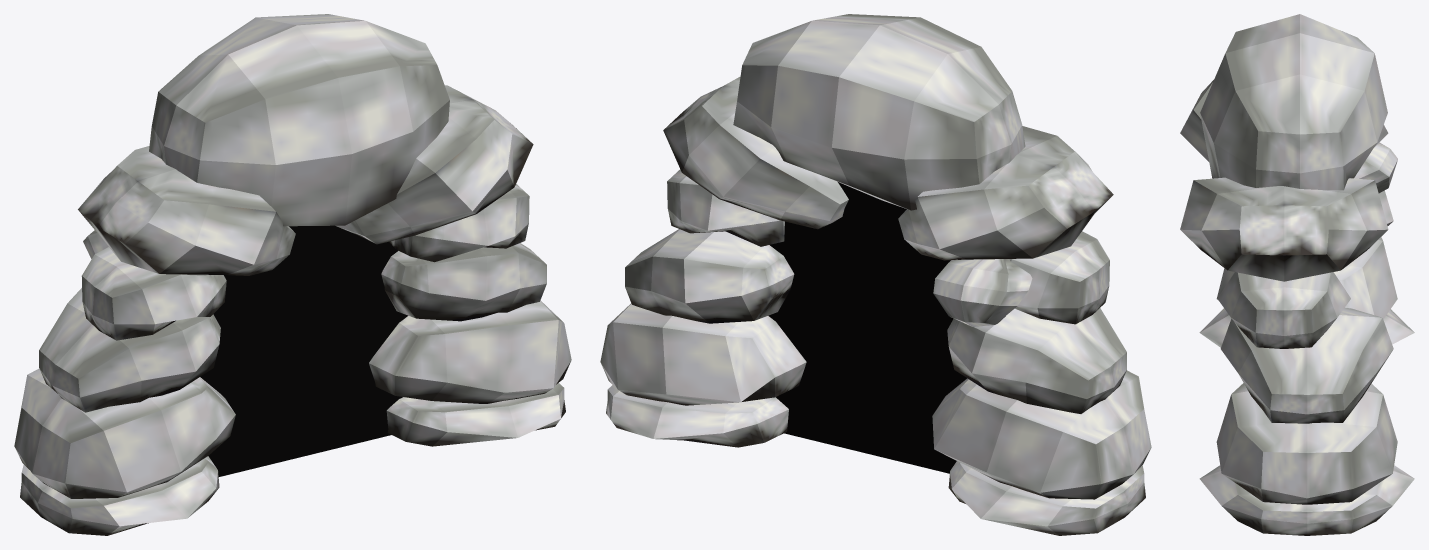
Rendered from Poly_World_Map_Entrance_01.obj.
3 renders of one model, left to right at view 1: azimuth 30°, elevation 25°; view 2: azimuth 150°, elevation 25°; view 3: azimuth 270°, elevation 25°, orthographic. The views are drawn at different scales.
Visible parts, largest first — view 1: Grid.005, Grid.008, Grid.004, Grid.001, Grid.003, Grid.007, Grid.002; view 2: Grid.005, Grid.008, Grid.004, Grid.001, Grid.003, Grid.007, Grid.002, Grid.006; view 3: Grid.005, Grid.004, Grid.001, Grid.003, Grid.007, Grid.002, Grid.006.
Part boxes in pixels (x1=…): Grid.005: x1=149, y1=14, x2=449, y2=226; Grid.008: x1=200, y1=225, x2=407, y2=476; Grid.004: x1=14, y1=300, x2=571, y2=498; Grid.001: x1=78, y1=85, x2=533, y2=275; Grid.003: x1=39, y1=243, x2=546, y2=412; Grid.007: x1=20, y1=383, x2=565, y2=535; Grid.002: x1=81, y1=184, x2=529, y2=340; Grid.005: x1=733, y1=14, x2=1025, y2=210; Grid.008: x1=768, y1=182, x2=966, y2=473; Grid.004: x1=600, y1=303, x2=1151, y2=499; Grid.001: x1=663, y1=76, x2=1113, y2=260; Grid.003: x1=625, y1=229, x2=1126, y2=413; Grid.007: x1=606, y1=385, x2=1145, y2=535; Grid.002: x1=667, y1=169, x2=1109, y2=324; Grid.006: x1=933, y1=259, x2=1032, y2=326; Grid.005: x1=1200, y1=14, x2=1387, y2=190; Grid.004: x1=1216, y1=237, x2=1397, y2=504; Grid.001: x1=1180, y1=80, x2=1388, y2=281; Grid.003: x1=1220, y1=190, x2=1393, y2=423; Grid.007: x1=1199, y1=308, x2=1414, y2=535; Grid.002: x1=1217, y1=272, x2=1350, y2=348; Grid.006: x1=1354, y1=142, x2=1397, y2=193.
Bounding box in the file's own units: 0.8364 × 0.6676 × 0.3609.
1 material, 1 textured.
